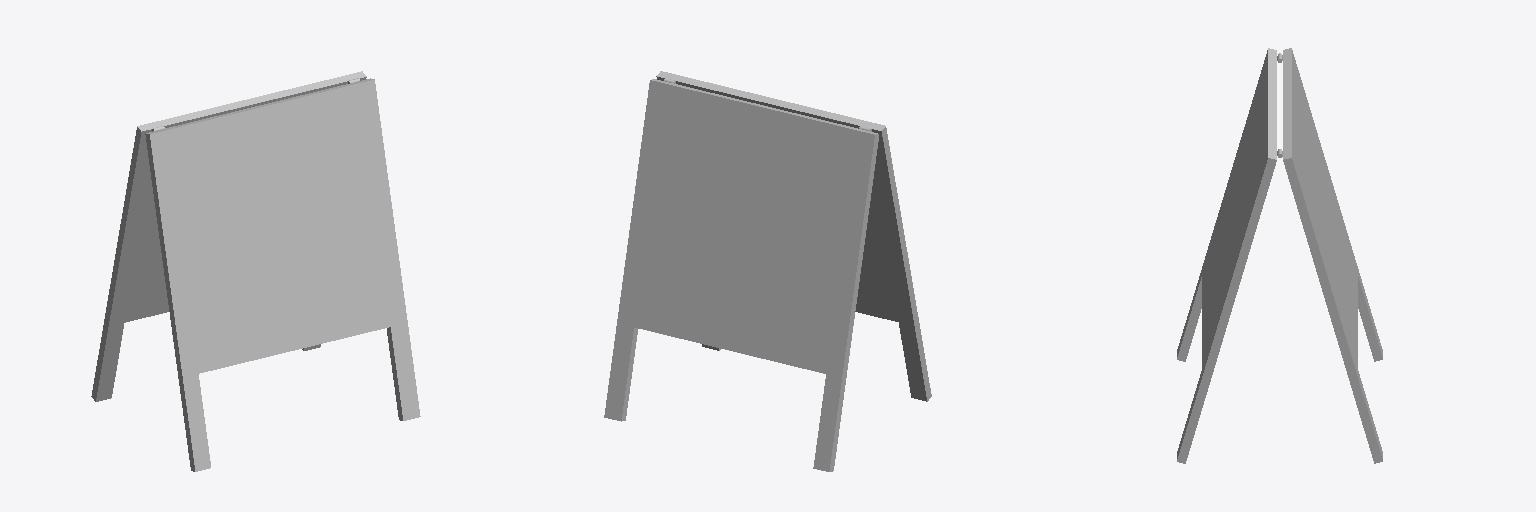
The model's file is ad board.obj.
3 renders of one model, left to right at view 1: azimuth 30°, elevation 25°; view 2: azimuth 150°, elevation 25°; view 3: azimuth 270°, elevation 25°, orthographic.
Parts seen in each view (by area): view 1: Cube.003, Cube.002, Cube, Cube.001; view 2: Cube.001, Cube, Cube.002, Cube.003; view 3: Cube.002, Cube, Cube.001, Cube.003.
Part boxes in pixels (x1,y1,x2,y2): Cube.003: (169, 109, 387, 354); Cube.002: (145, 78, 420, 471); Cube: (91, 71, 366, 401); Cube.001: (127, 172, 166, 306); Cube.001: (637, 110, 855, 354); Cube: (604, 79, 878, 471); Cube.002: (656, 71, 931, 401); Cube.003: (857, 179, 895, 306); Cube.002: (1177, 48, 1276, 463); Cube: (1283, 48, 1382, 463); Cube.001: (1299, 81, 1352, 350); Cube.003: (1207, 81, 1260, 350).
Bounding box in the file's own units: 4.21 × 5.46 × 3.33.